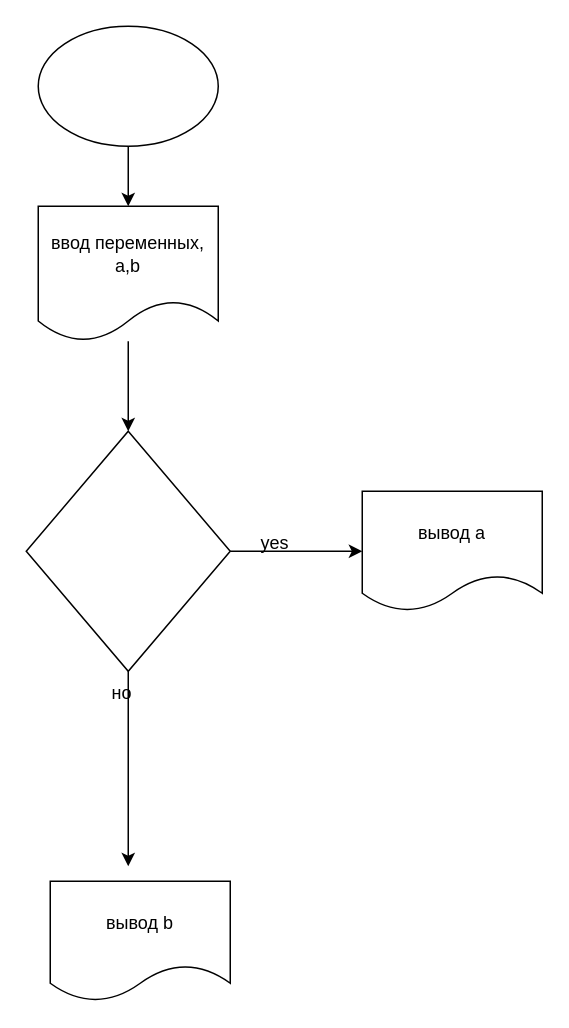
Some shapes in this 569 by 1028 pixel diagram are drawn without their labels. The shapes that lost their labels are listed below. From the top down, each one's box as (x1, y1, x2, y2) in pixels, then its label:
(37, 25, 218, 146): начало
(25, 430, 230, 671): а>b
